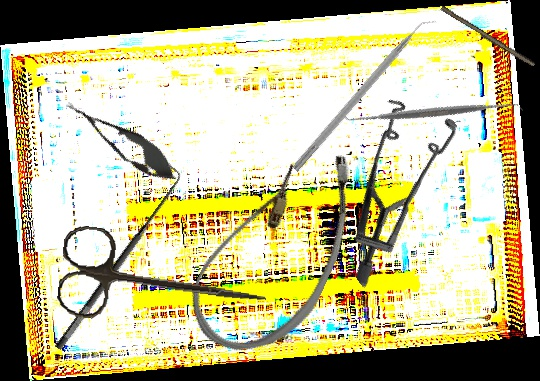Cannula: (176, 121, 377, 375)
Chopper: (291, 12, 441, 180)
Hook Surgical: (41, 161, 191, 353)
Iris Scissors: (55, 223, 272, 340)
Micro Scissor: (58, 90, 186, 192)
Scalpel Handle: (438, 5, 537, 69)
Spatula Surgical: (340, 20, 524, 204)
Speculum: (283, 76, 502, 289)
